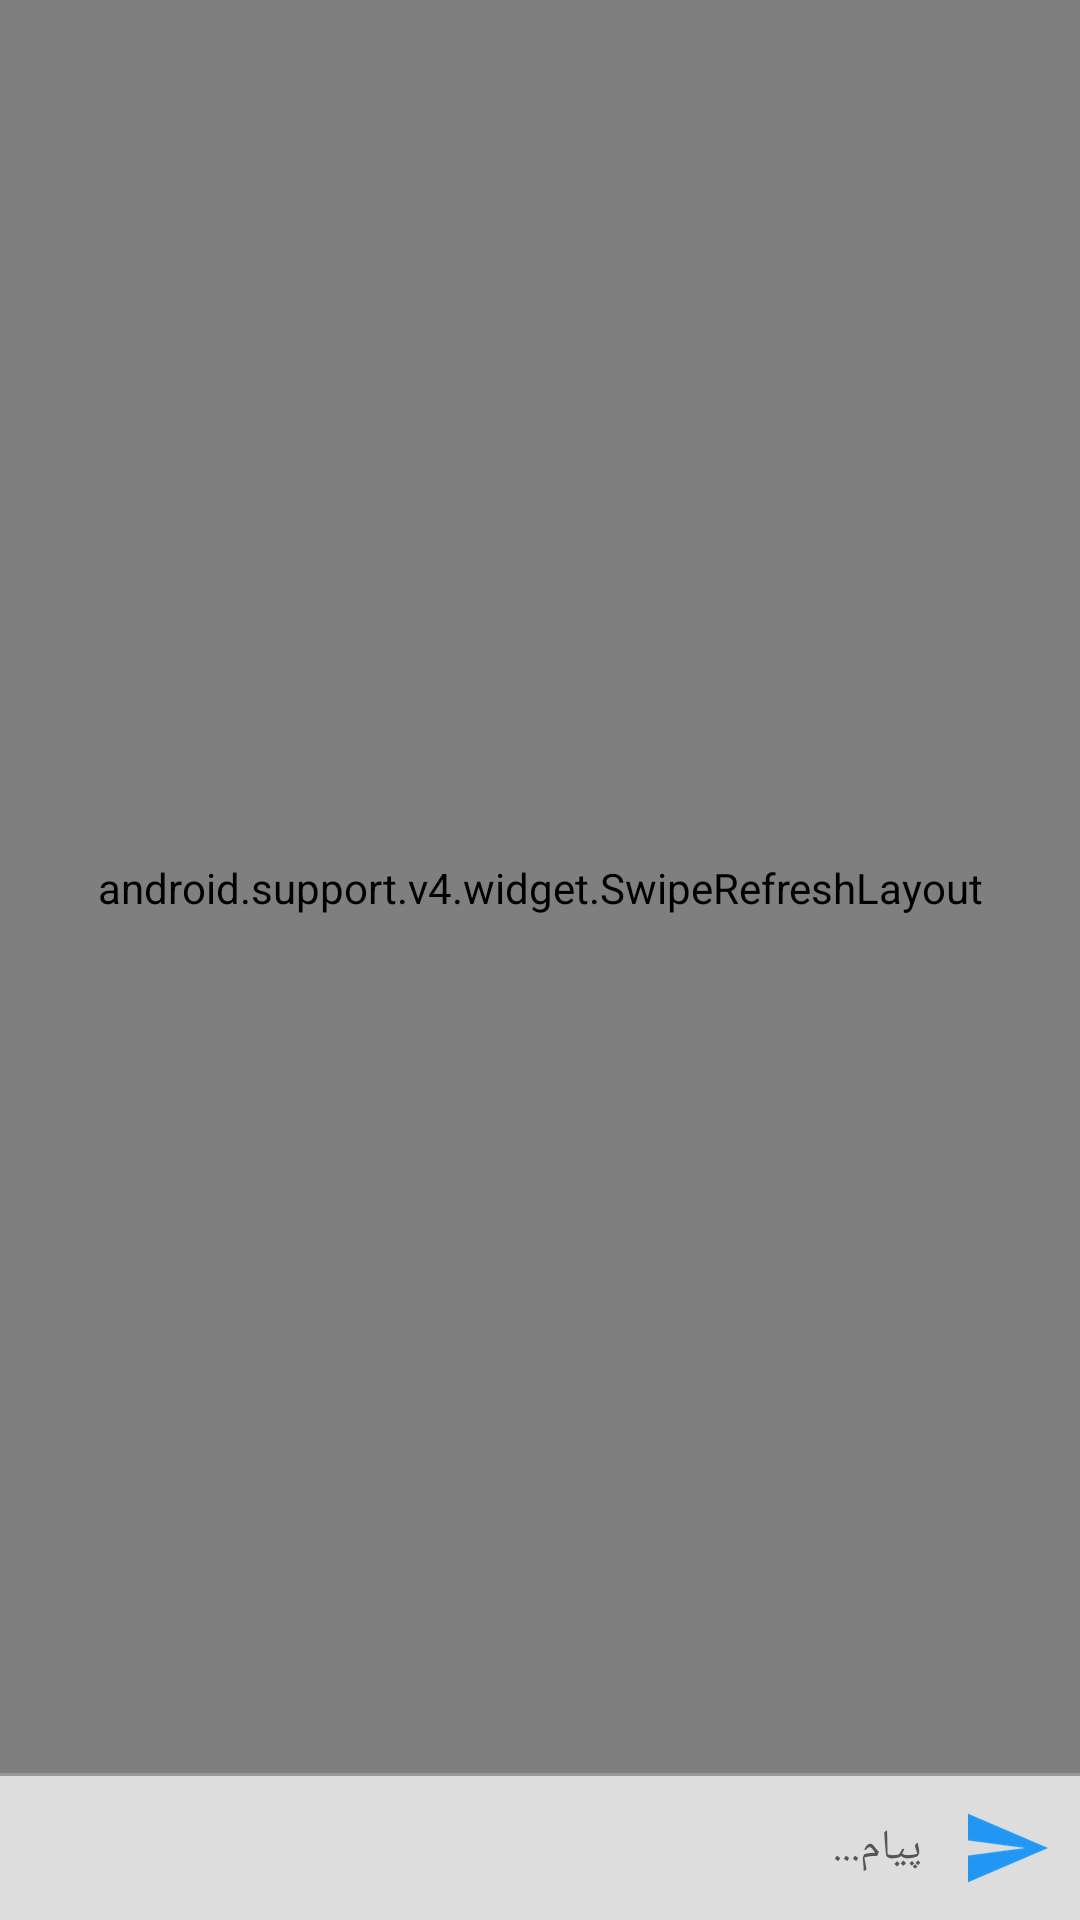

Icons on this 1080*1920 Android screen, each with its box as (x1, y1, x2, y2):
send msg: (968, 1813, 1048, 1883)
